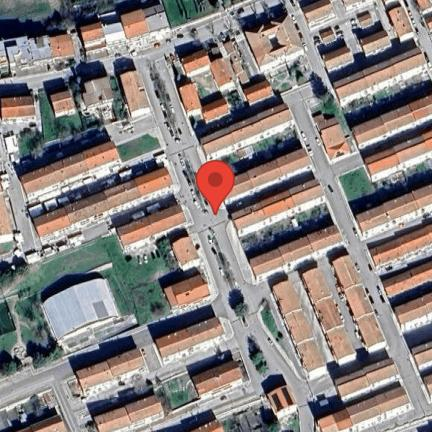area_open: (231, 299, 309, 394), (343, 71, 432, 122), (159, 338, 234, 379), (85, 375, 151, 417), (0, 386, 62, 430), (375, 161, 432, 200), (299, 376, 342, 416), (288, 82, 332, 110), (109, 118, 159, 139), (193, 70, 220, 104)
built: (33, 166, 173, 239), (230, 178, 327, 240), (215, 146, 314, 205), (334, 44, 428, 106), (201, 101, 297, 161), (330, 252, 386, 349), (19, 141, 120, 193), (247, 223, 343, 277), (302, 267, 357, 361), (41, 277, 120, 340), (316, 384, 417, 432), (274, 279, 324, 374), (78, 4, 170, 53), (352, 94, 432, 149), (357, 181, 431, 236), (363, 131, 432, 182), (244, 15, 305, 69), (77, 346, 147, 392), (334, 356, 402, 401), (117, 203, 188, 246), (155, 316, 226, 359), (93, 392, 165, 432), (370, 222, 431, 269), (1, 34, 76, 69), (193, 359, 244, 396), (314, 112, 352, 161), (385, 261, 432, 297), (164, 274, 211, 309), (117, 68, 150, 112), (395, 294, 431, 331), (266, 386, 300, 421), (10, 414, 73, 432), (0, 95, 37, 122), (84, 77, 112, 111), (0, 179, 15, 242), (389, 6, 415, 41), (320, 46, 353, 71), (180, 50, 212, 75), (303, 0, 336, 23), (362, 31, 393, 55), (181, 82, 203, 115), (174, 237, 199, 265), (50, 90, 75, 118), (201, 97, 230, 121), (209, 59, 233, 88), (246, 80, 276, 103), (412, 340, 431, 369), (232, 59, 250, 84), (196, 419, 224, 432), (357, 11, 375, 26), (321, 26, 336, 42), (414, 0, 431, 11), (342, 0, 360, 10), (422, 15, 432, 32), (425, 374, 431, 401), (225, 40, 235, 53)
vegetation_low: (0, 232, 127, 381), (111, 236, 183, 322), (13, 94, 100, 159), (1, 1, 152, 38), (212, 127, 300, 178), (160, 0, 231, 28), (337, 164, 378, 211), (155, 372, 199, 413), (269, 60, 318, 93), (116, 132, 164, 162), (258, 305, 288, 348), (246, 336, 270, 379), (313, 97, 337, 113)
